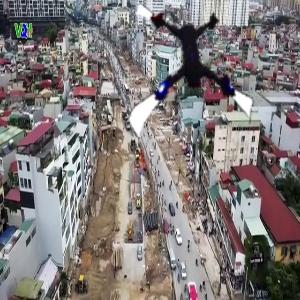drone: (123, 3, 266, 146)
